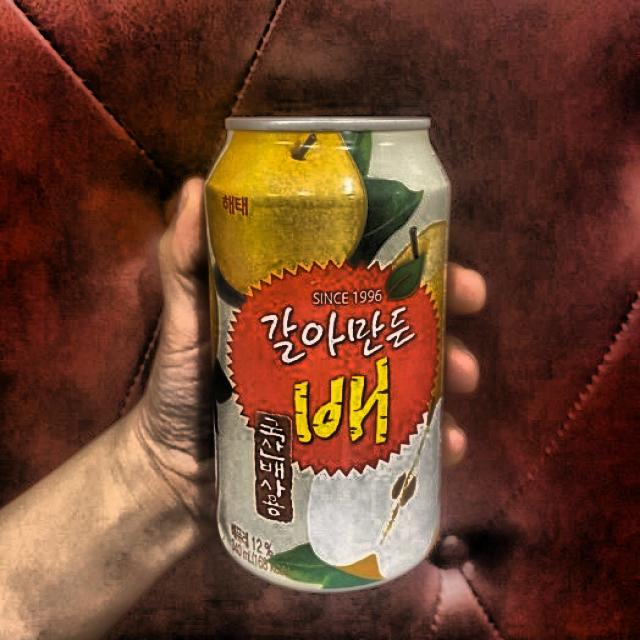galamandeunbae: (203, 108, 452, 582)
